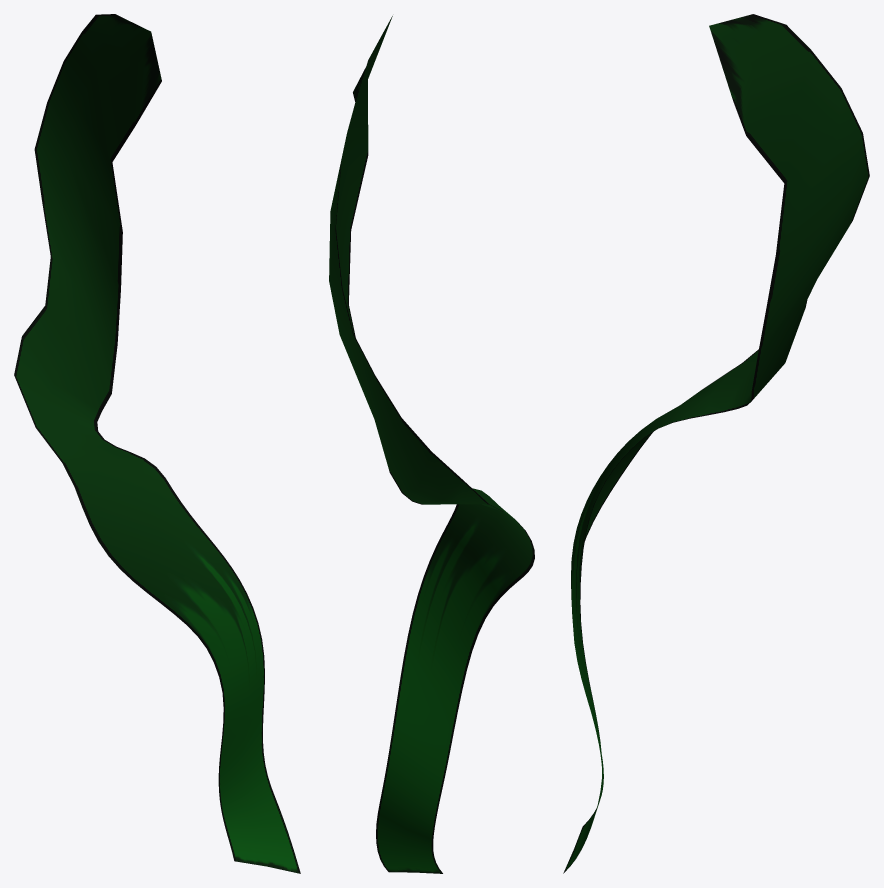
Rendered from alga3.fbx.
3 views of the same model, side by side, from view 1: azimuth 30°, elevation 25°; view 2: azimuth 150°, elevation 25°; view 3: azimuth 270°, elevation 25° (orthographic). The views are drawn at different scales.
Parts seen in each view (by area): view 1: alga3; view 2: alga3; view 3: alga3.
Part boxes in pixels (x1=…): alga3: x1=14, y1=14, x2=300, y2=873; alga3: x1=329, y1=16, x2=534, y2=873; alga3: x1=563, y1=14, x2=869, y2=873.
Bounding box in the file's own units: 8.73 × 38.43 × 13.1.
